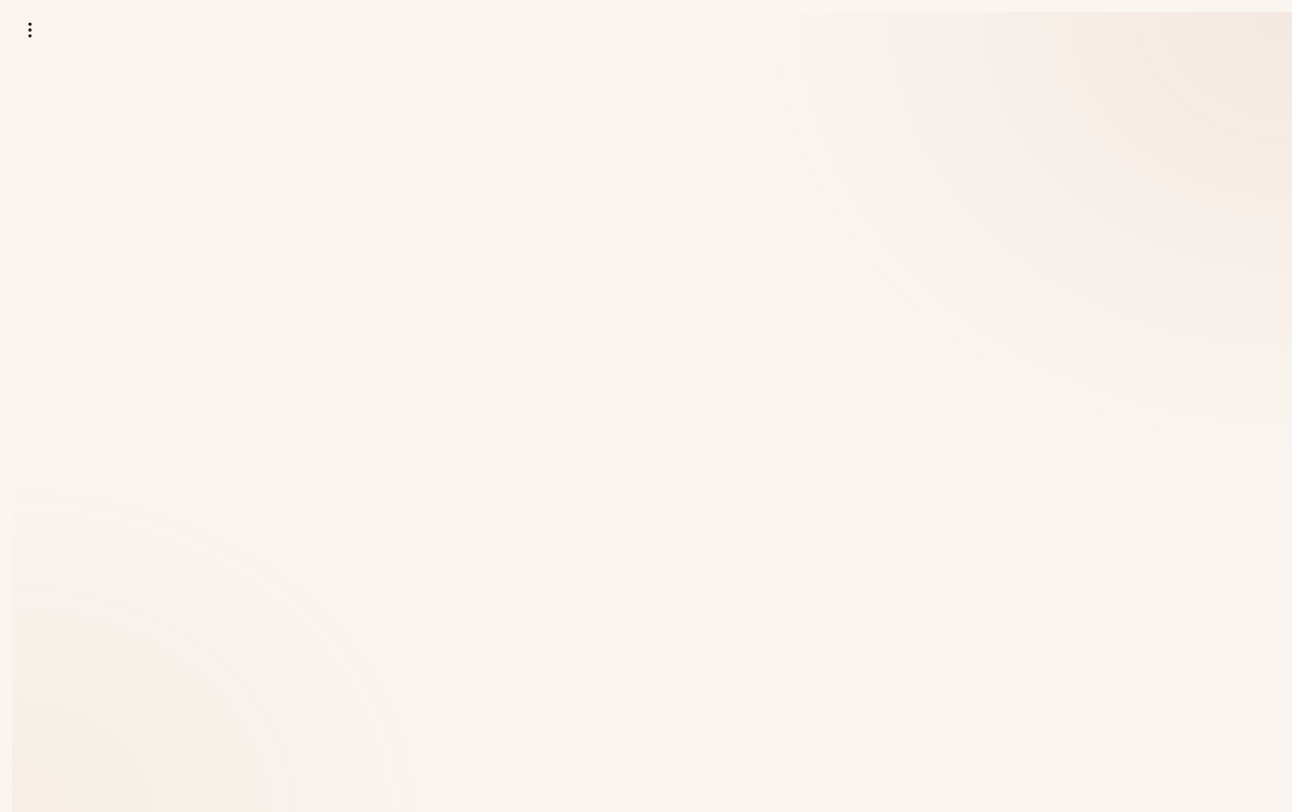
Scenario: ＋ answers the tap: a check flashes and the addition is announced
Click the button named "Add Squat to a list" at [30, 30], box 12,12 -> 48,48
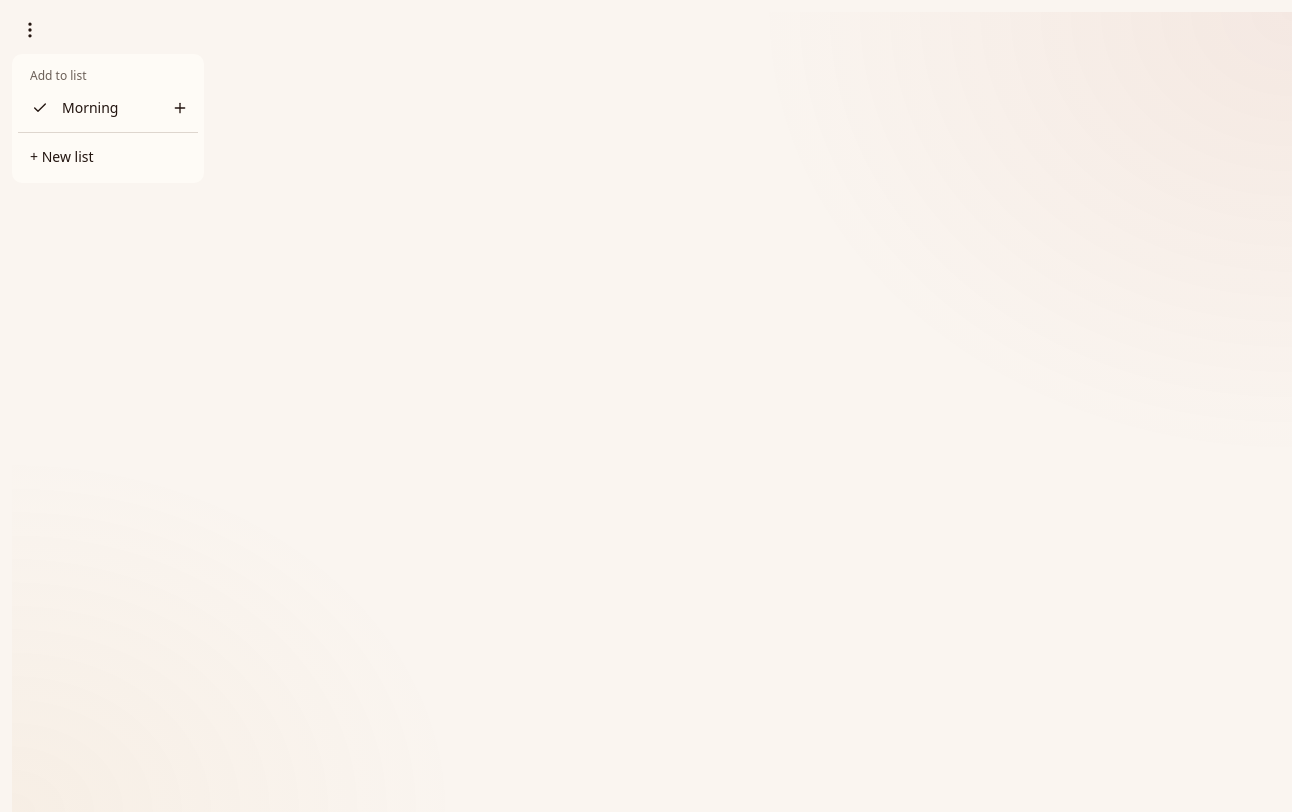
Click the menu item named "Add once more to Morning" at [180, 108], box 172,100 -> 188,116
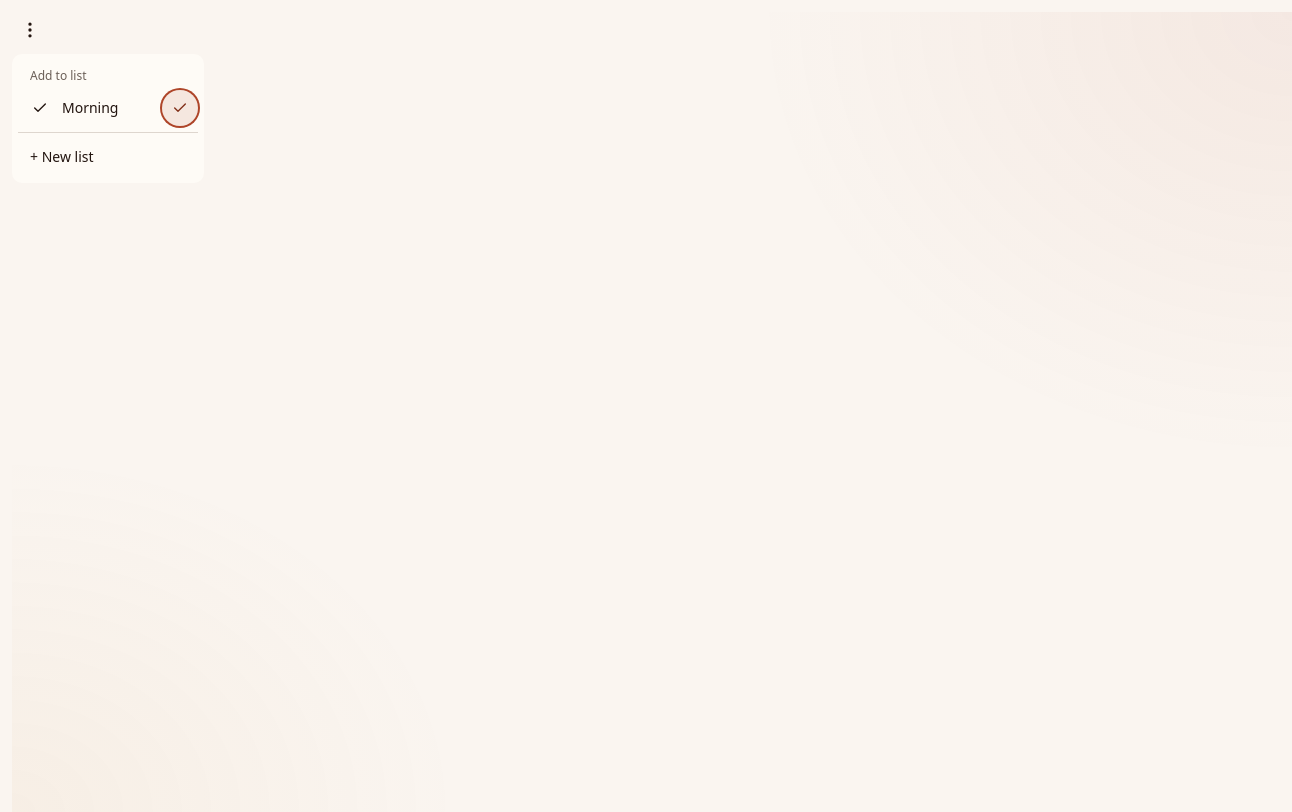
Check: the menu item named "Add once more to Morning" has attribute data-added="true", box 162,90 -> 198,126
